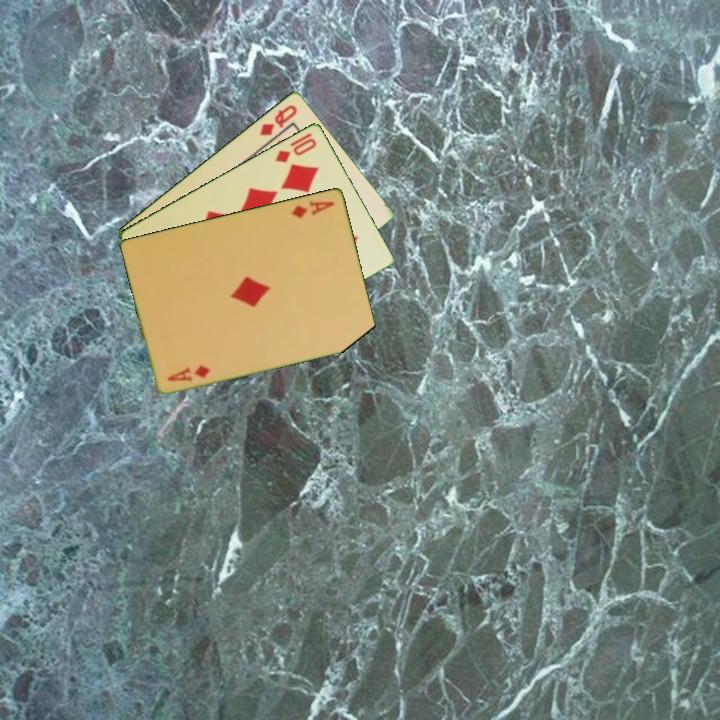10d: (271, 129, 320, 165)
Ad: (288, 197, 338, 221), (164, 361, 214, 384)
Qd: (256, 101, 300, 138)
